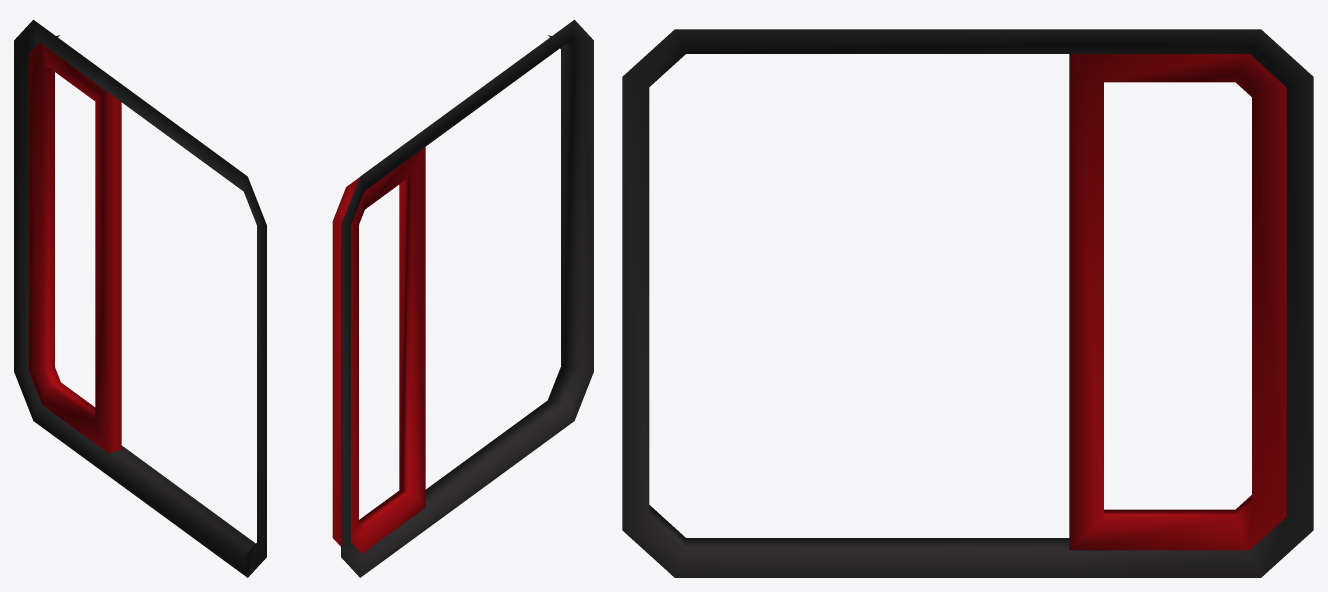
The model's file is Subway_01_Window_Small.fbx.
The picture shows the model from 3 angles, left to right: view 1: azimuth 30°, elevation 25°; view 2: azimuth 150°, elevation 25°; view 3: azimuth 270°, elevation 25°; orthographic projection. The views are drawn at different scales.
Visible parts, largest first — view 1: Subway_01_WindowSmall_low; view 2: Subway_01_WindowSmall_low; view 3: Subway_01_WindowSmall_low.
Boxes of the visible parts, <box> form: Subway_01_WindowSmall_low: <box>14,19,266,577</box>; Subway_01_WindowSmall_low: <box>332,19,593,577</box>; Subway_01_WindowSmall_low: <box>622,29,1313,577</box>.
Bounding box in the file's own units: 0.06 × 1.01 × 1.15.
